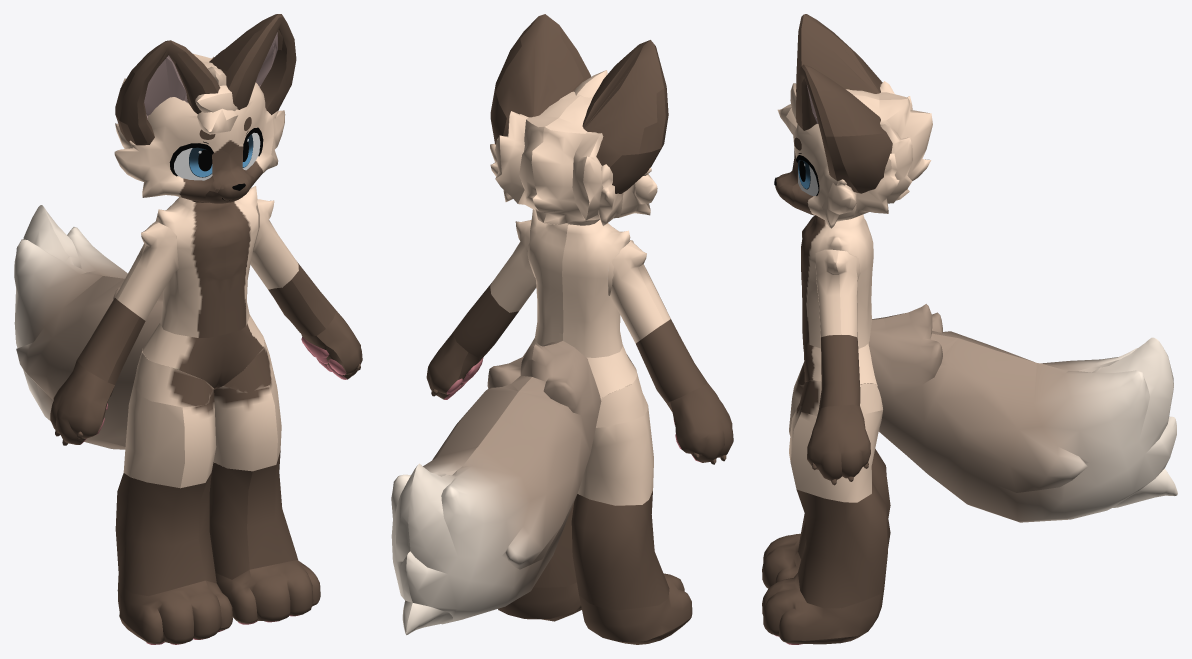
The model's file is explicador_con_cola.glb.
3 views of the same model, side by side, from view 1: azimuth 30°, elevation 25°; view 2: azimuth 150°, elevation 25°; view 3: azimuth 270°, elevation 25° (orthographic). The views are drawn at different scales.
Visible parts, largest first — view 1: explicador; view 2: explicador; view 3: explicador.
Part boxes in pixels (left/top/right/bottom): explicador: left=14, top=14, right=362, bottom=644; explicador: left=391, top=14, right=733, bottom=644; explicador: left=762, top=14, right=1177, bottom=644.
Bounding box in the file's own units: 3.11 × 5.85 × 3.86.
Materials: 2 (1 with a texture image).
